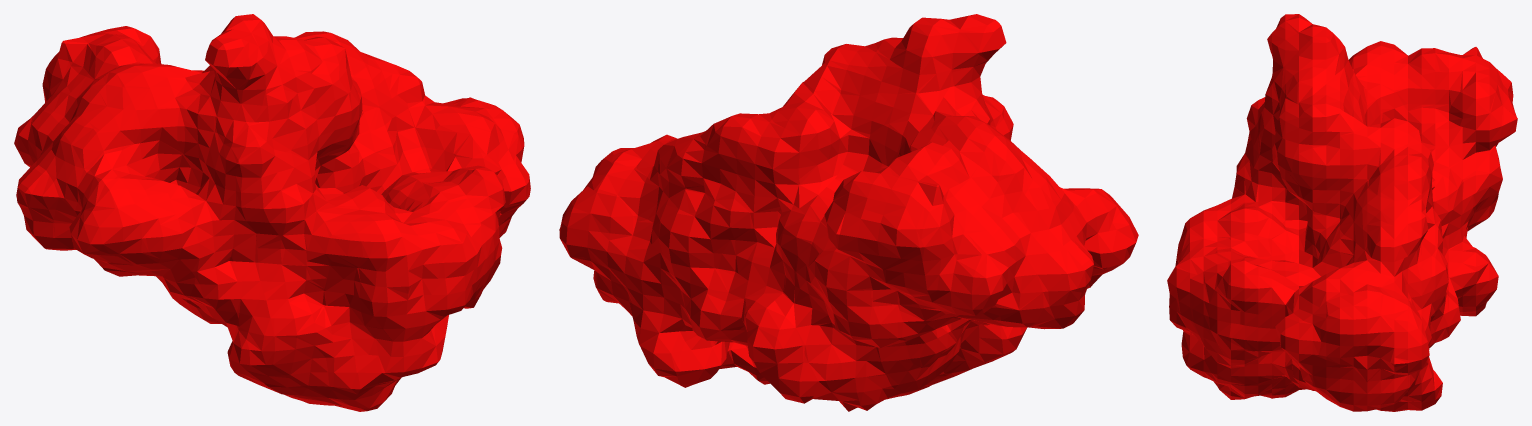
The model's file is yghJ_coarse.dae.
3 views of the same model, side by side, from view 1: azimuth 30°, elevation 25°; view 2: azimuth 150°, elevation 25°; view 3: azimuth 270°, elevation 25° (orthographic). The views are drawn at different scales.
Parts seen in each view (by area): view 1: yghJ; view 2: yghJ; view 3: yghJ.
Boxes of the visible parts, box(x1,y1,x2,y2) form: yghJ: box(14, 14, 530, 411); yghJ: box(559, 14, 1138, 411); yghJ: box(1167, 14, 1517, 411).
Size of the model in its own units: 129 by 97.69 by 90.64.
